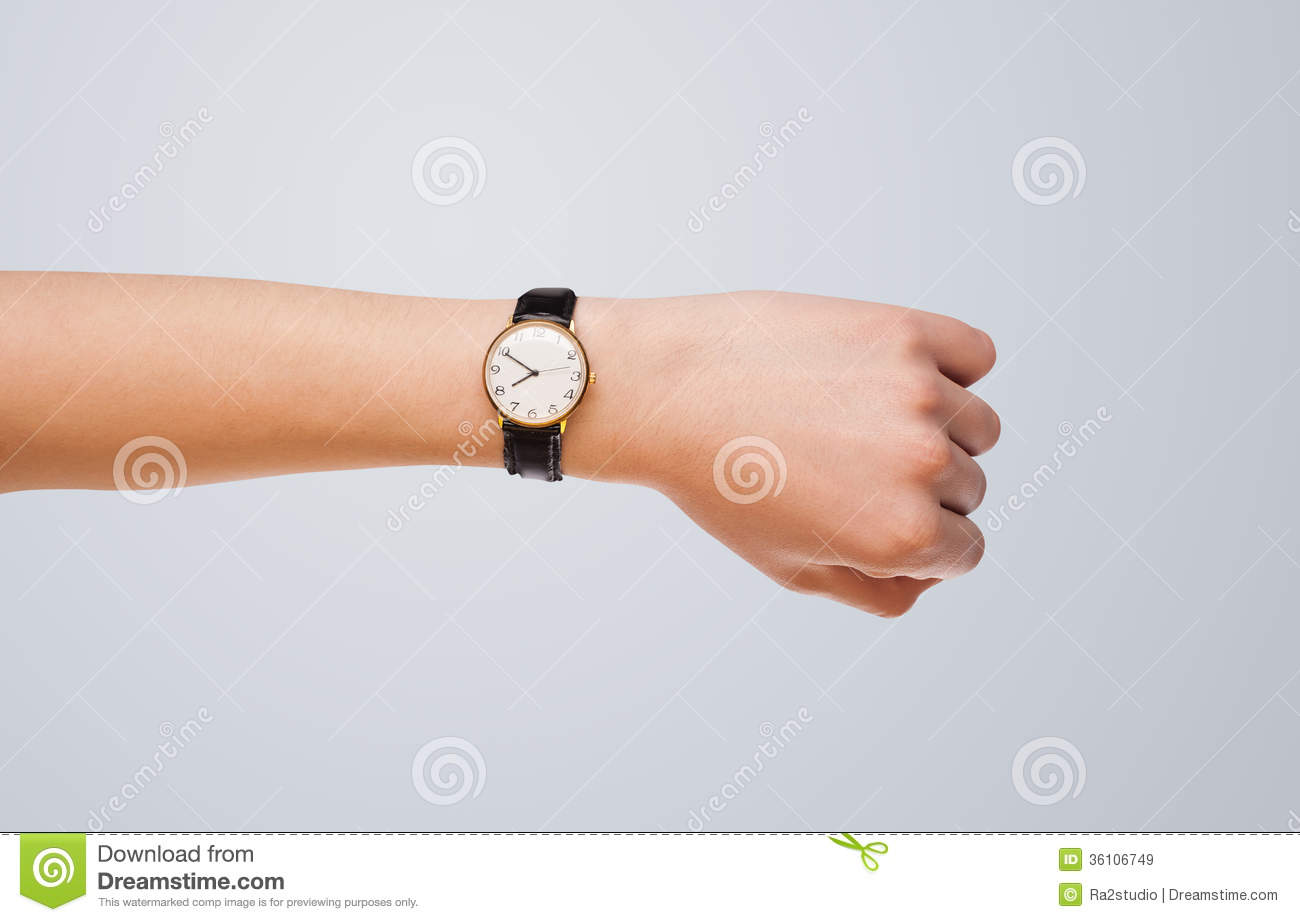clock: (483, 321, 590, 424)
